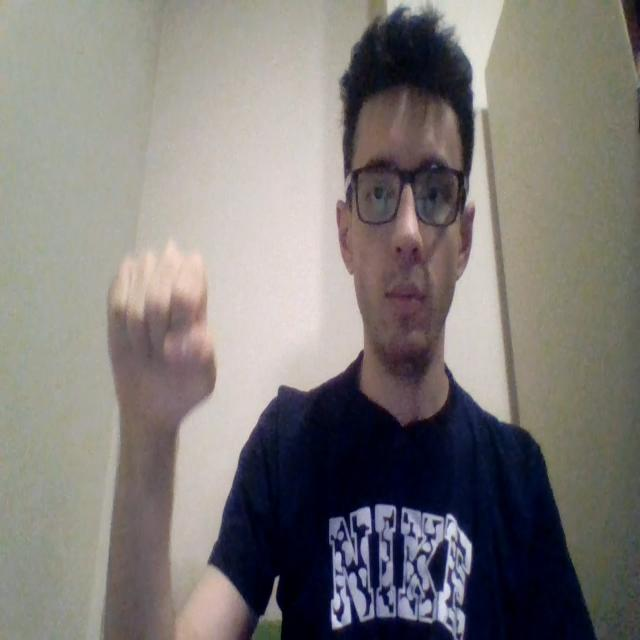yes: (106, 237, 217, 443)
